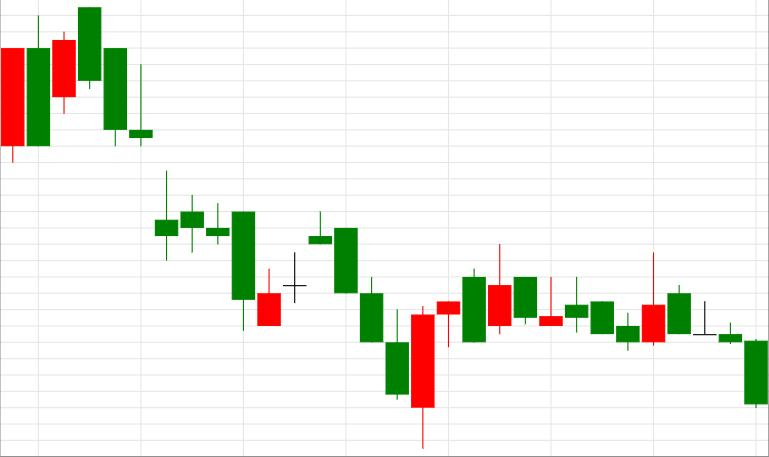bullish_engulfing_rise: (309, 211, 435, 449)
